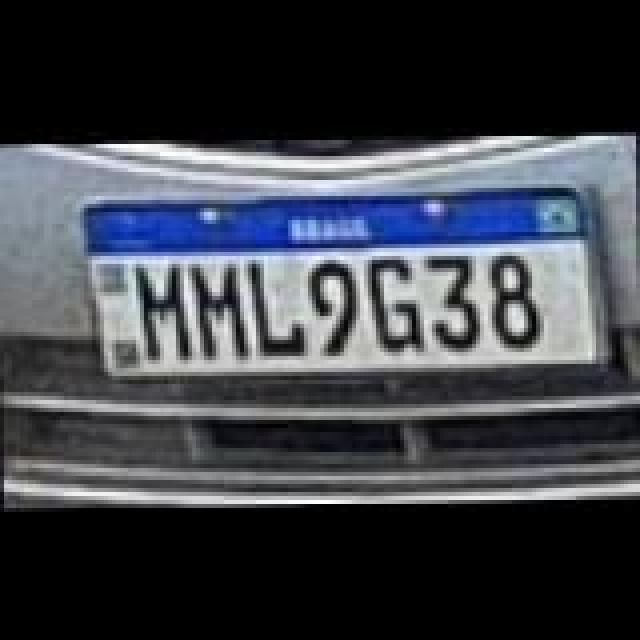3: (428, 252, 484, 352)
8: (488, 252, 544, 348)
9: (312, 260, 360, 356)
G: (368, 252, 424, 352)
L: (254, 260, 306, 356)
M: (196, 260, 252, 360), (136, 260, 192, 360)
